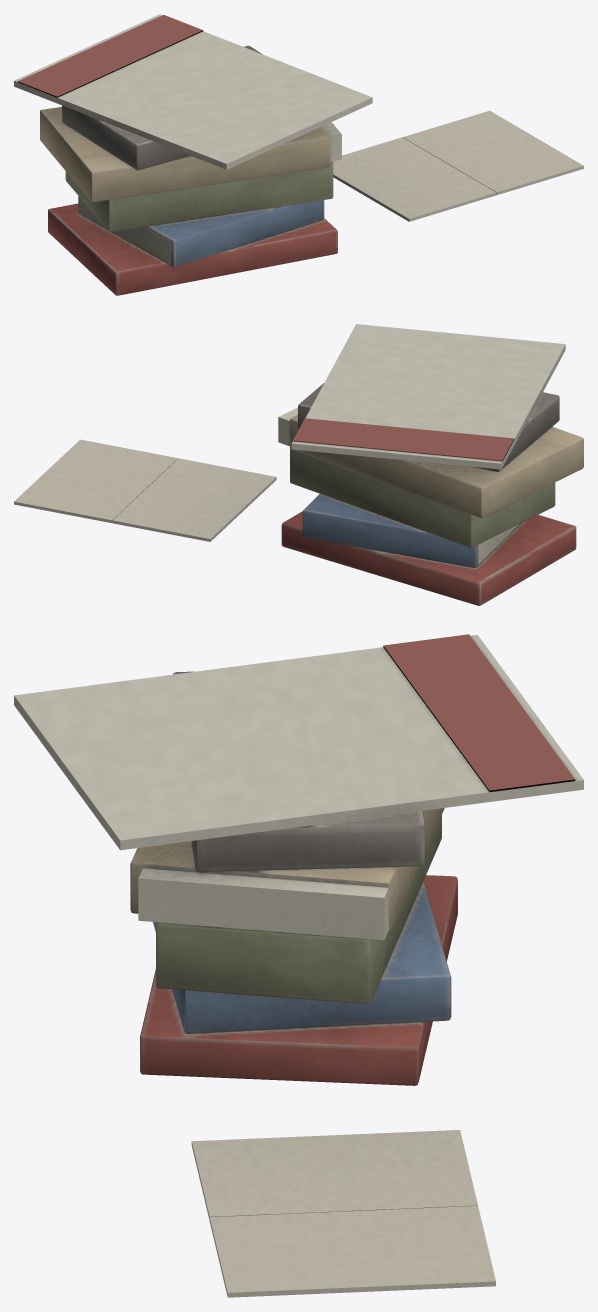
Rendered from books.glb.
3 views of the same model, one above another, from view 1: azimuth 30°, elevation 25°; view 2: azimuth 150°, elevation 25°; view 3: azimuth 270°, elevation 25° (orthographic). The views are drawn at different scales.
Visible parts, largest first — view 1: books; view 2: books; view 3: books.
Boxes of the visible parts, x1,y1,x2,y2 form: books: (14,14,583,295); books: (14,324,583,605); books: (14,634,583,1297).
Size of the model in its own units: 0.5355 by 0.1595 by 0.317.
1 material, 1 textured.
